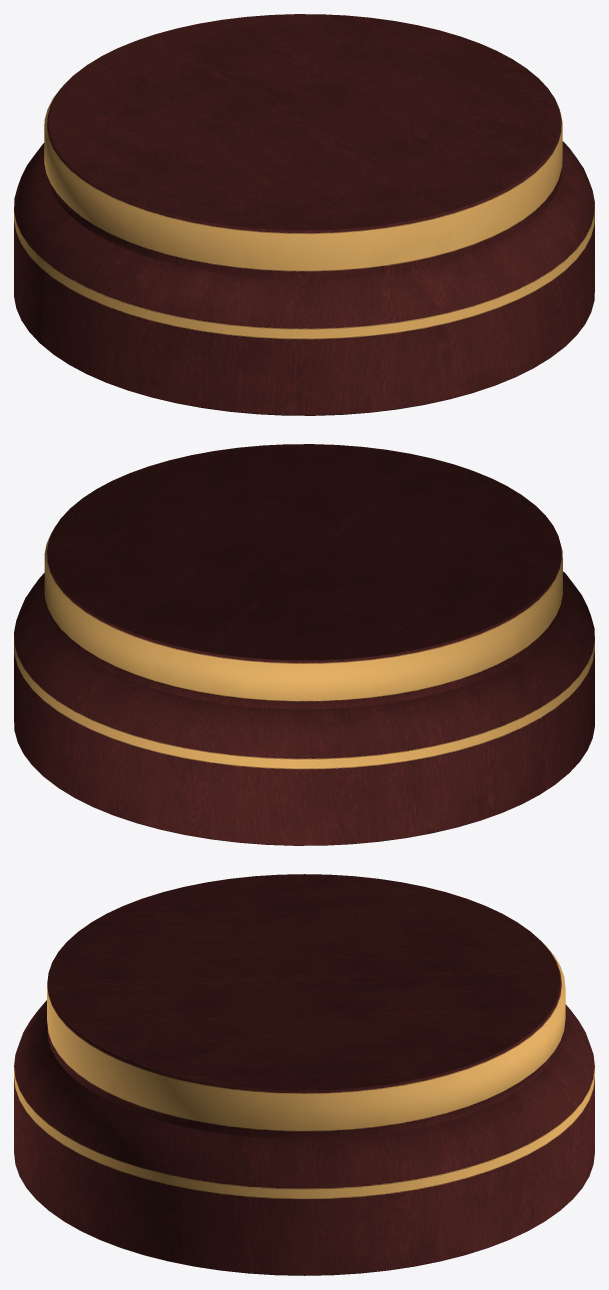
Rendered from judges_gavel_base.obj.
3 views of the same model, one above another, from view 1: azimuth 30°, elevation 25°; view 2: azimuth 150°, elevation 25°; view 3: azimuth 270°, elevation 25° (orthographic).
Visible parts, largest first — view 1: obj2; view 2: obj2; view 3: obj2.
Part boxes in pixels (<box>): obj2: <box>14,14,594,415</box>; obj2: <box>14,444,594,845</box>; obj2: <box>14,874,594,1275</box>.
Size of the model in its own units: 0.6143 by 0.1998 by 0.6143.
Materials: 1 (1 with a texture image).
